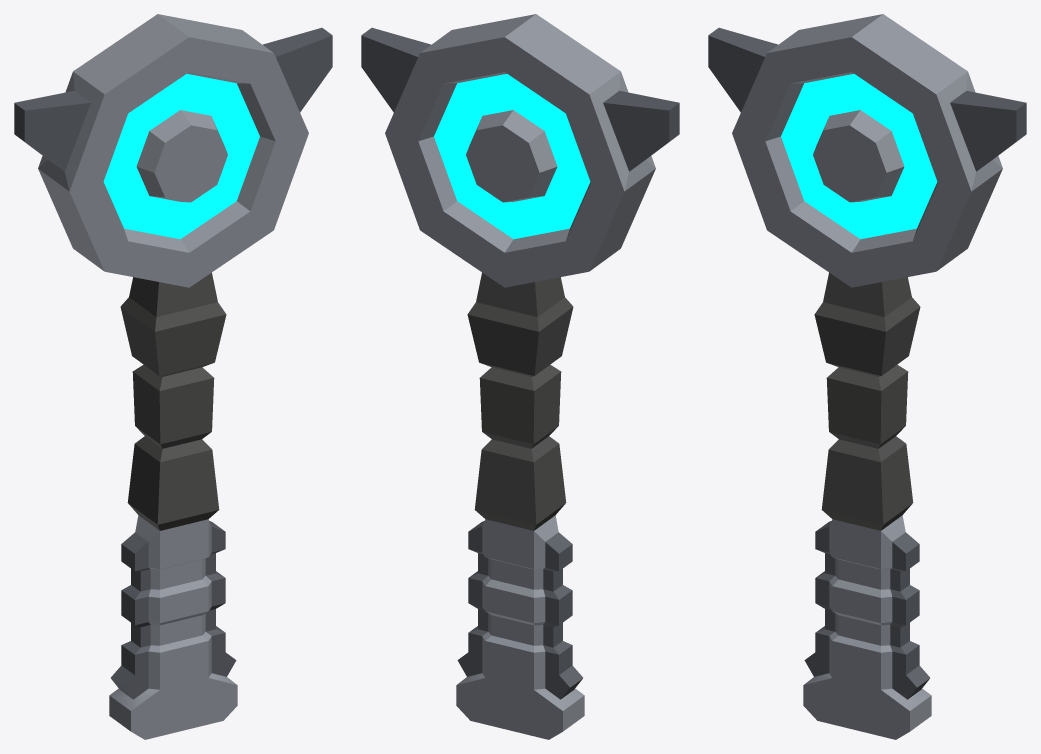
File: SM_Wep_Sword_Double_01.fbx
3 views of the same model, side by side, from view 1: azimuth 30°, elevation 25°; view 2: azimuth 150°, elevation 25°; view 3: azimuth 330°, elevation 25° (orthographic).
Parts seen in each view (by area): view 1: SM_Wep_Sword_Double_01_LOD0; view 2: SM_Wep_Sword_Double_01_LOD0; view 3: SM_Wep_Sword_Double_01_LOD0.
Part boxes in pixels (x1,y1,x2,y2): SM_Wep_Sword_Double_01_LOD0: (14, 14, 332, 739); SM_Wep_Sword_Double_01_LOD0: (361, 14, 679, 739); SM_Wep_Sword_Double_01_LOD0: (708, 14, 1026, 739).
Size of the model in its own units: 4.17 by 20.9 by 45.19.
1 material, 1 textured.
